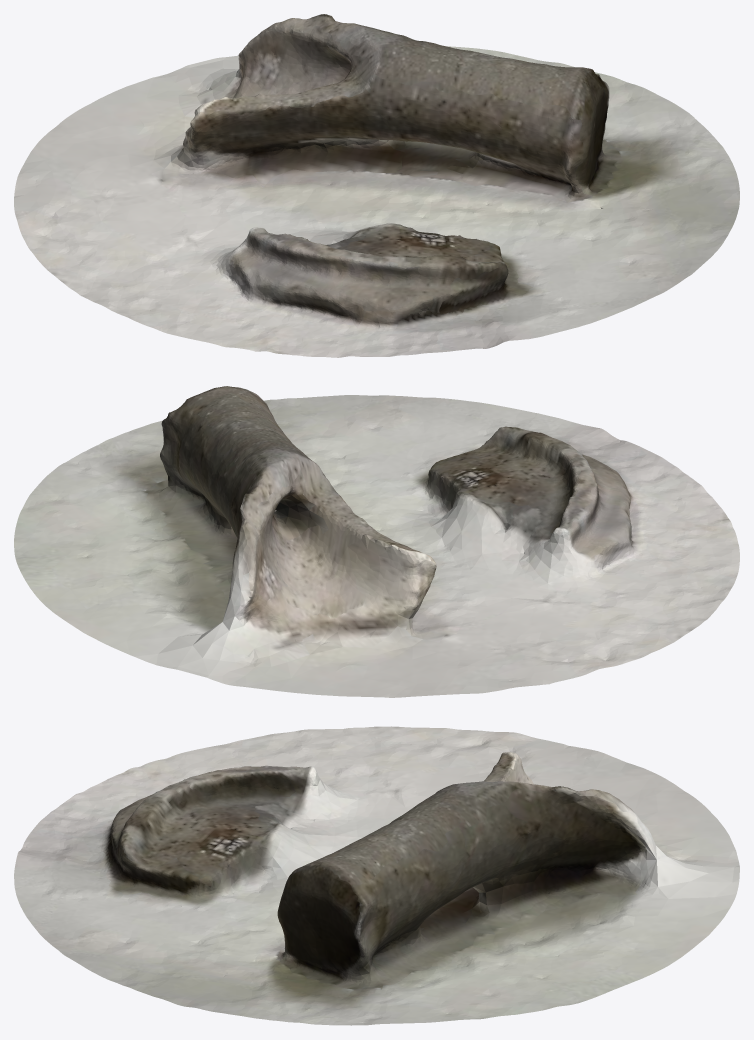
The model's file is model06_small.glb.
3 views of the same model, one above another, from view 1: azimuth 30°, elevation 25°; view 2: azimuth 150°, elevation 25°; view 3: azimuth 270°, elevation 25° (orthographic).
Visible parts, largest first — view 1: mesh; view 2: mesh; view 3: mesh.
Part boxes in pixels (bbox=[...]): mesh: bbox=[14, 14, 739, 357]; mesh: bbox=[14, 386, 739, 697]; mesh: bbox=[14, 726, 739, 1025].
Bounding box in the file's own units: 0.2308 × 0.044 × 0.2283.
Materials: 1 (1 with a texture image).
